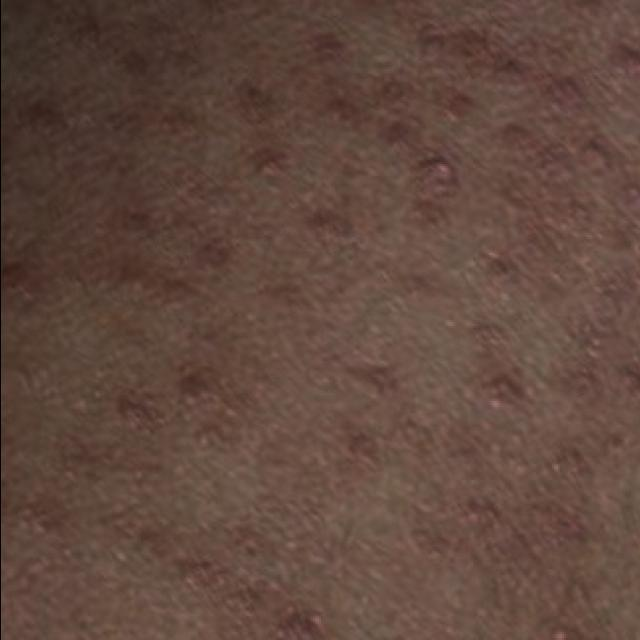keratosis pilaris: (0, 0, 640, 506)
